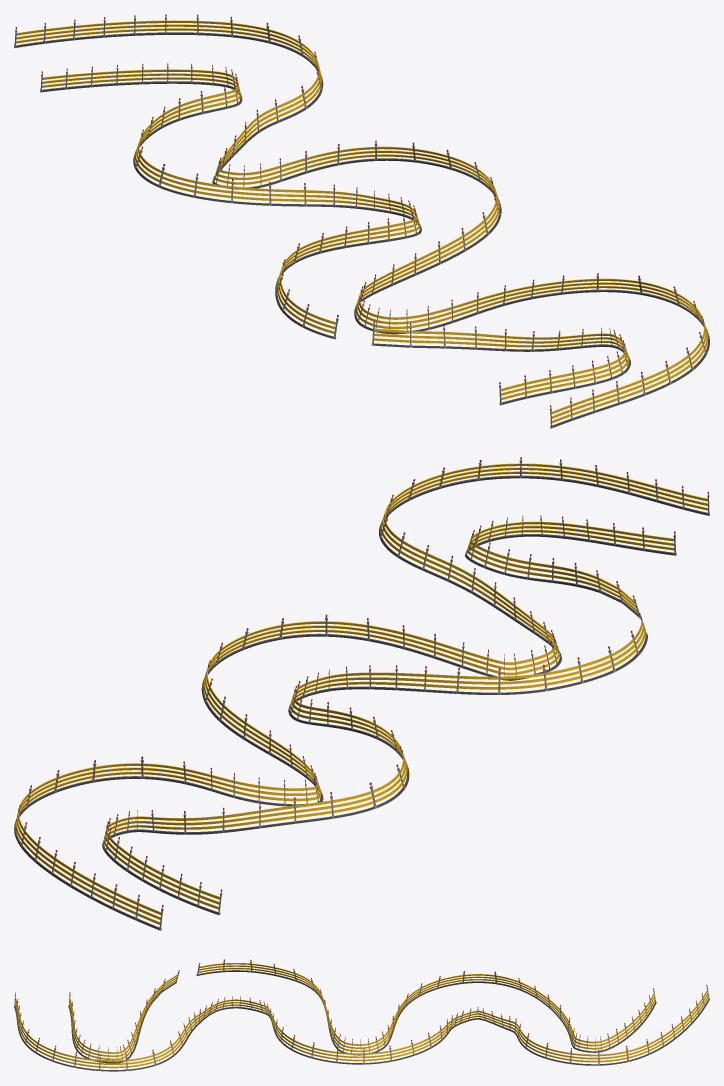
Rendered from Bande4.fbx.
The picture shows the model from 3 angles, top to bottom: view 1: azimuth 30°, elevation 25°; view 2: azimuth 150°, elevation 25°; view 3: azimuth 270°, elevation 25°; orthographic projection. The views are drawn at different scales.
Parts seen in each view (by area): view 1: BandeSlalom; view 2: BandeSlalom; view 3: BandeSlalom.
Part boxes in pixels (x1,y1,x2,y2): BandeSlalom: (14, 14, 709, 428); BandeSlalom: (14, 457, 709, 930); BandeSlalom: (14, 959, 709, 1071).
Size of the model in its own units: 17536 by 2345 by 51357.
